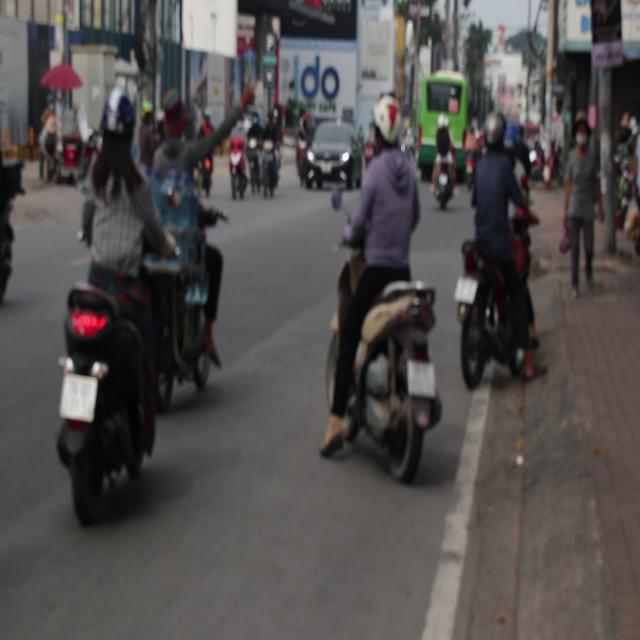bus: (413, 54, 471, 171)
car: (298, 123, 357, 190)
motorbike: (57, 272, 161, 522), (333, 262, 439, 483), (454, 218, 551, 394), (132, 245, 222, 403), (430, 158, 456, 212), (192, 144, 218, 192), (264, 146, 281, 205), (225, 144, 243, 196), (246, 141, 261, 191)
